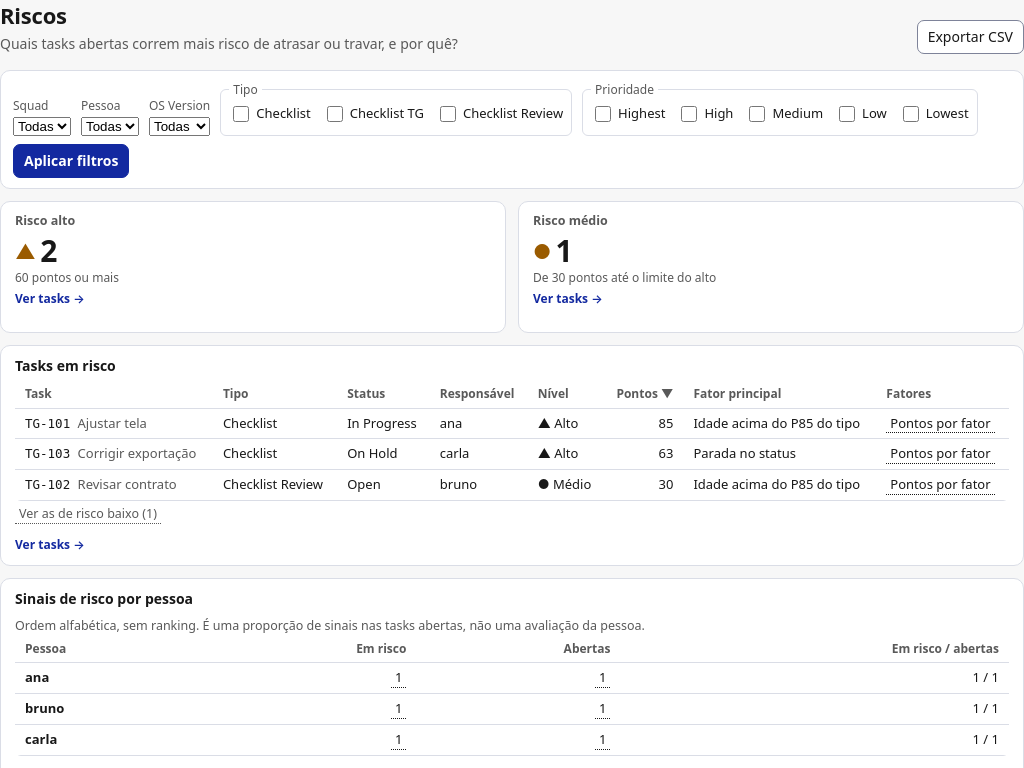
Test: tela Riscos › kpiAbreGavetaComMesmoTamanho
Click the button named "Risco alto".
click(67, 278)  # box top-left (15, 234), bottom-right (491, 308)
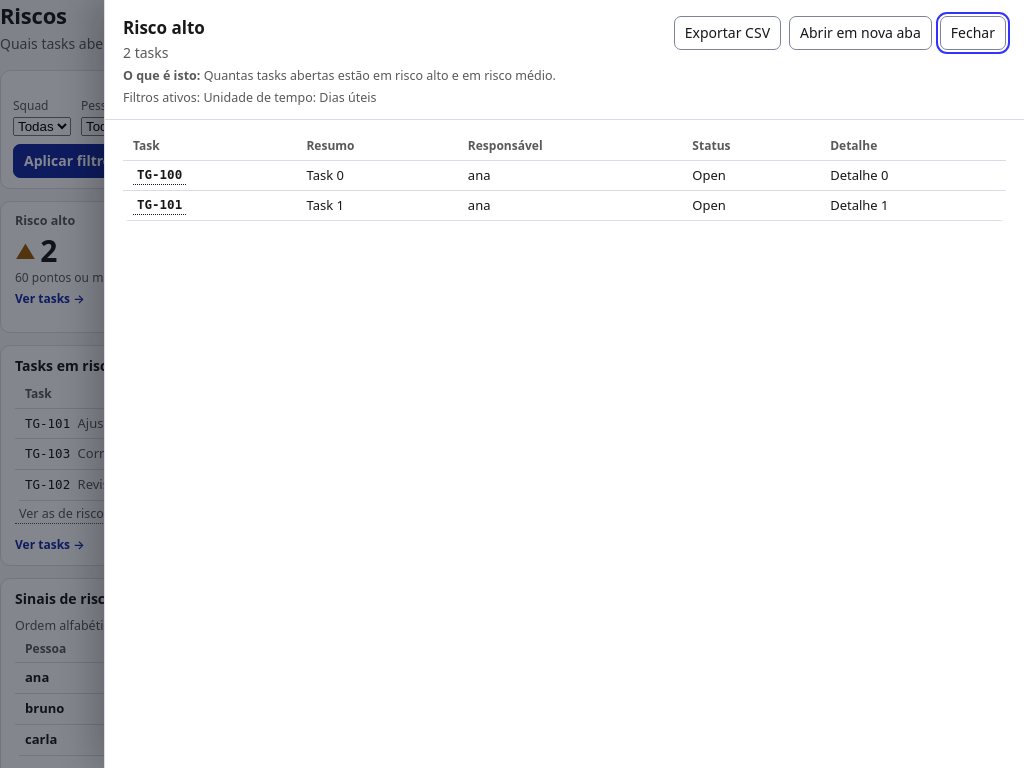
Result: the text "2 tasks" is shown at top-left (123, 43), bottom-right (168, 62)
